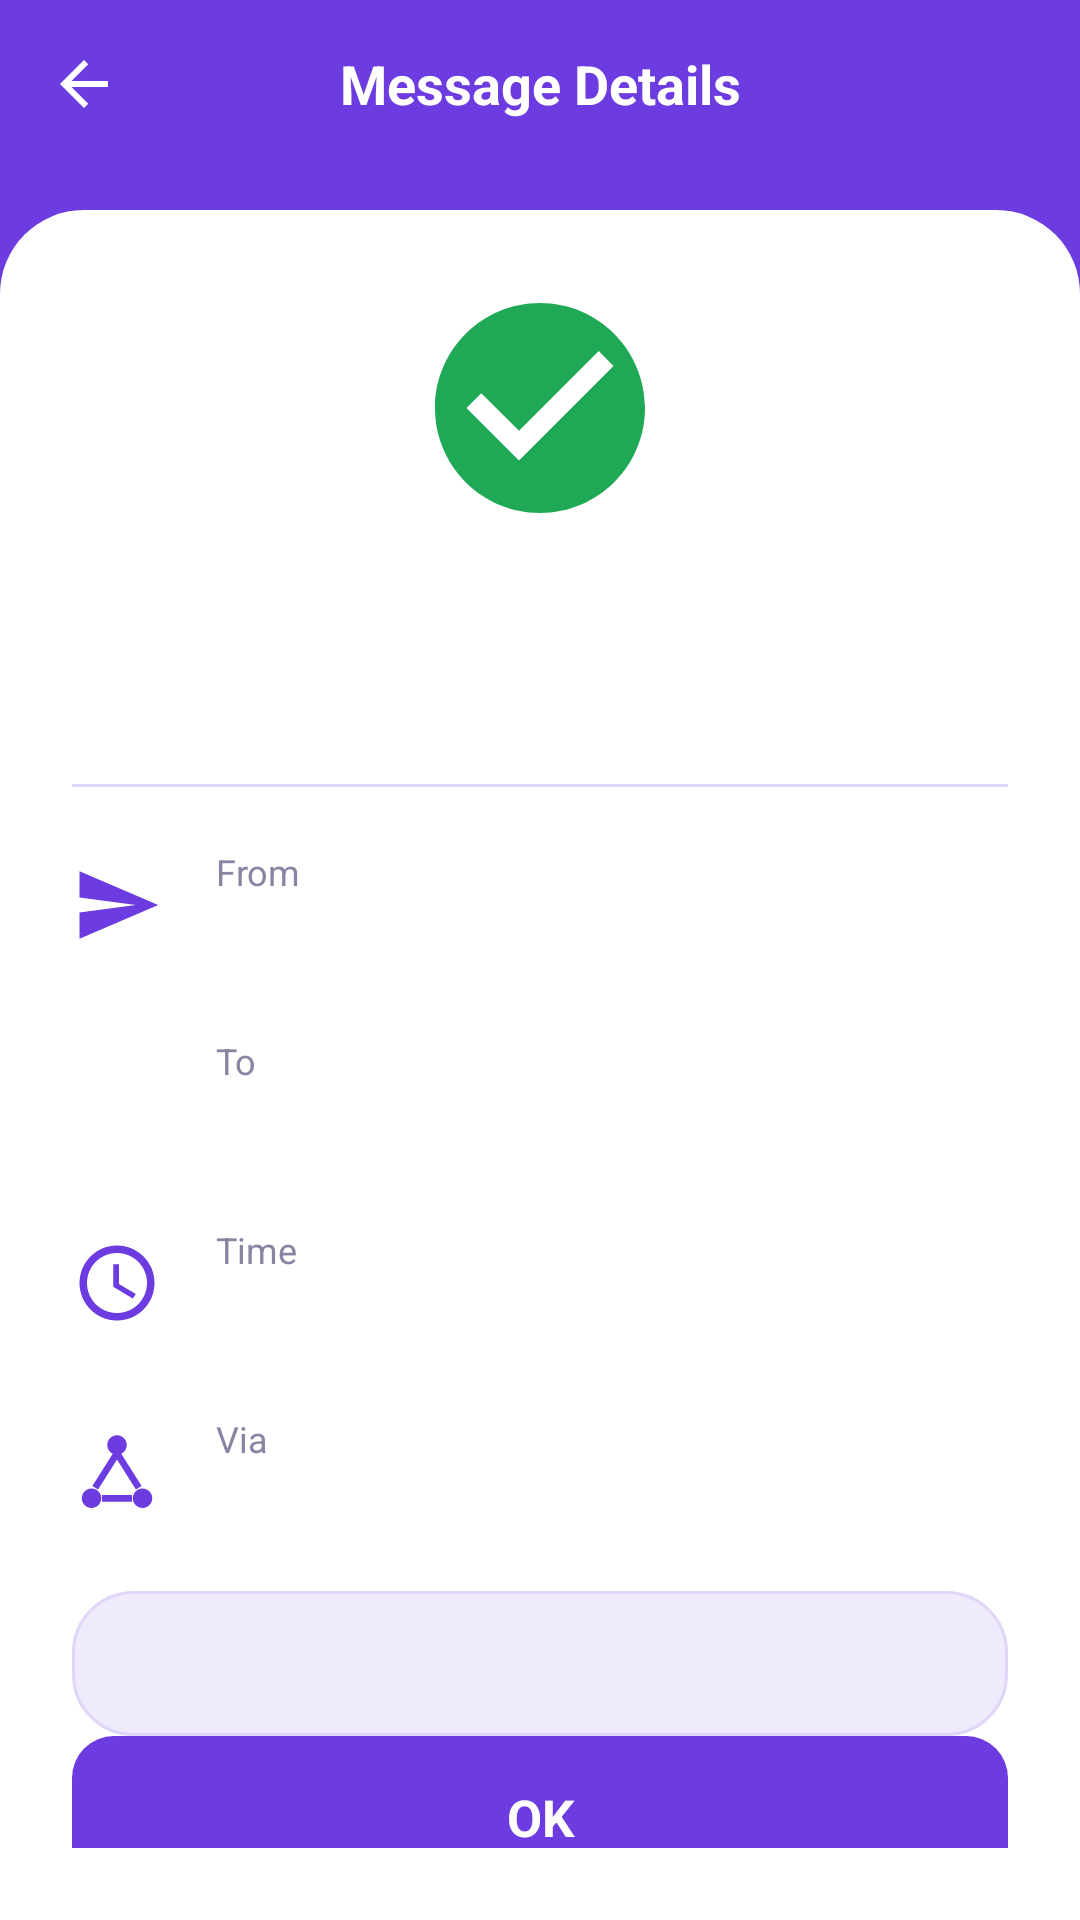

Icon click points for this 1080*1920 phone screenshot, format (x,y):
back: (84,84)
check circle: (540,408)
clock: (117,1283)
mesh: (117,1471)
send plane: (118,905)
